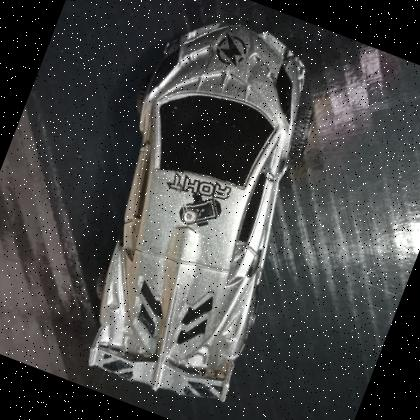Car: (31, 0, 363, 420)
